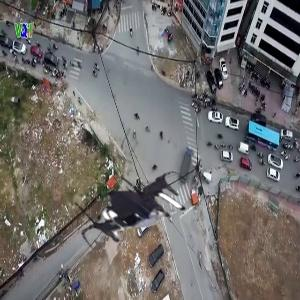drone: (72, 145, 198, 271)
